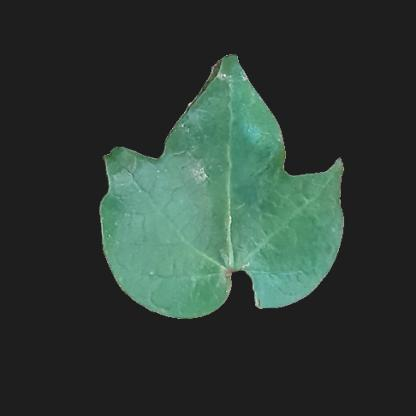healthy: (180, 139, 272, 275), (273, 185, 339, 274), (112, 188, 175, 272), (206, 83, 258, 139)
